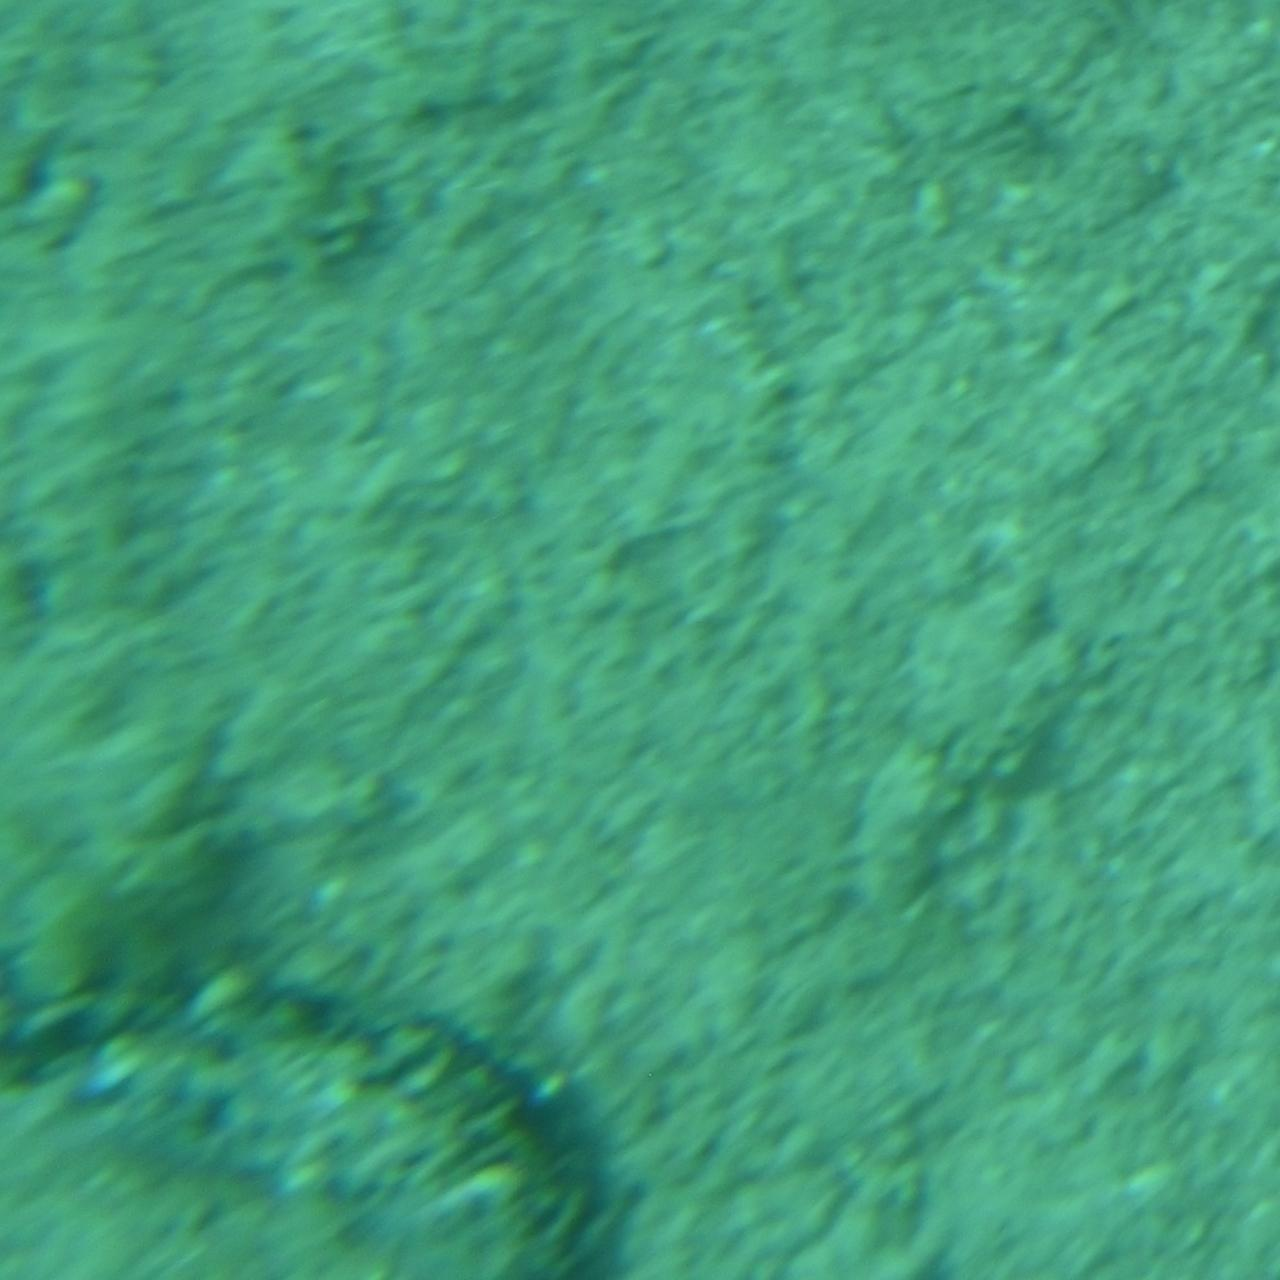Holothuria tubulosa: (0, 946, 632, 1279)
